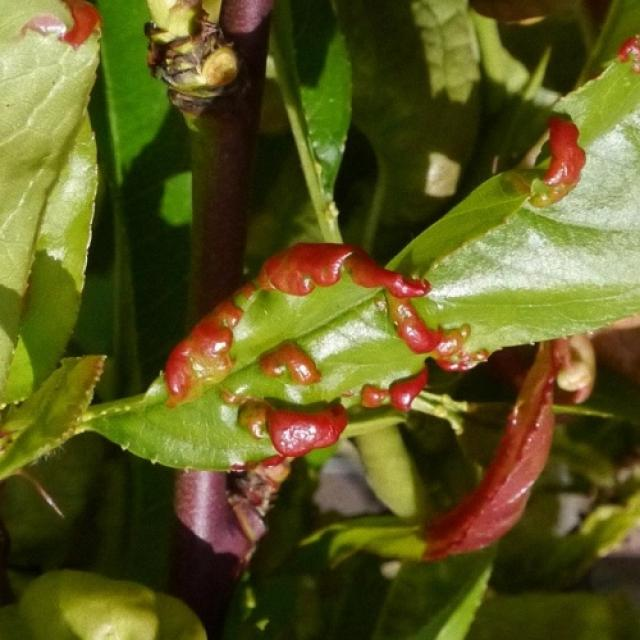peach_leaf_curl: (148, 263, 472, 495), (504, 92, 625, 220)
